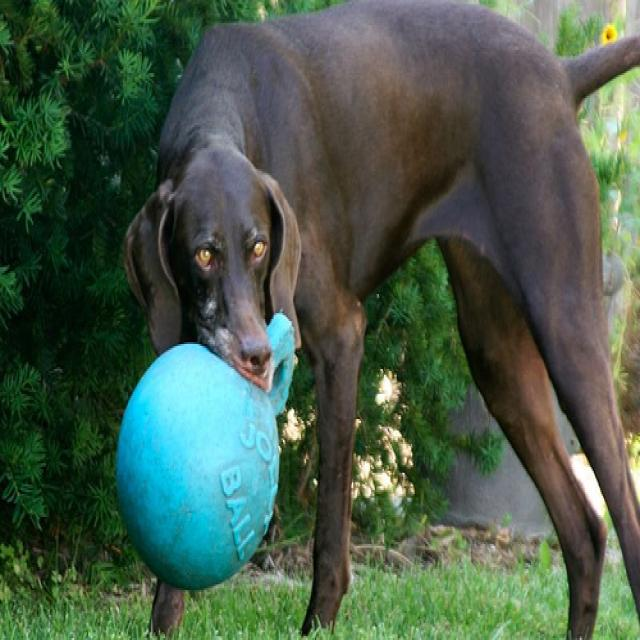dog-german_shorthaired: (120, 2, 637, 636)
